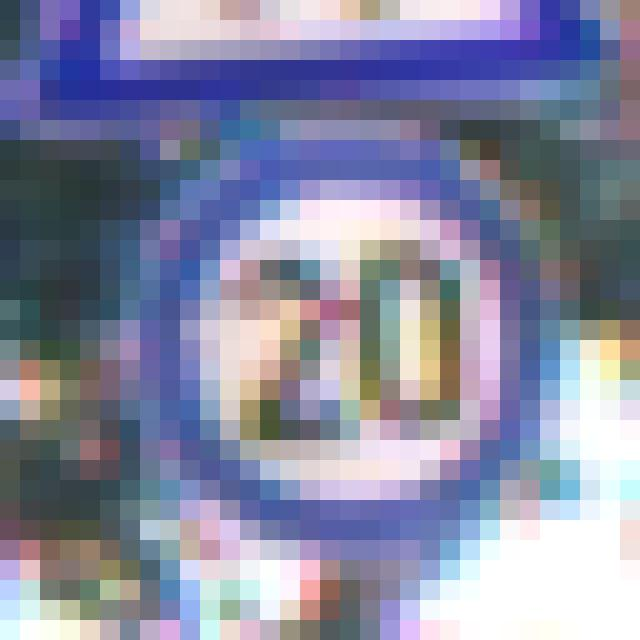SPEED LIMIT 20: (168, 168, 542, 526)
